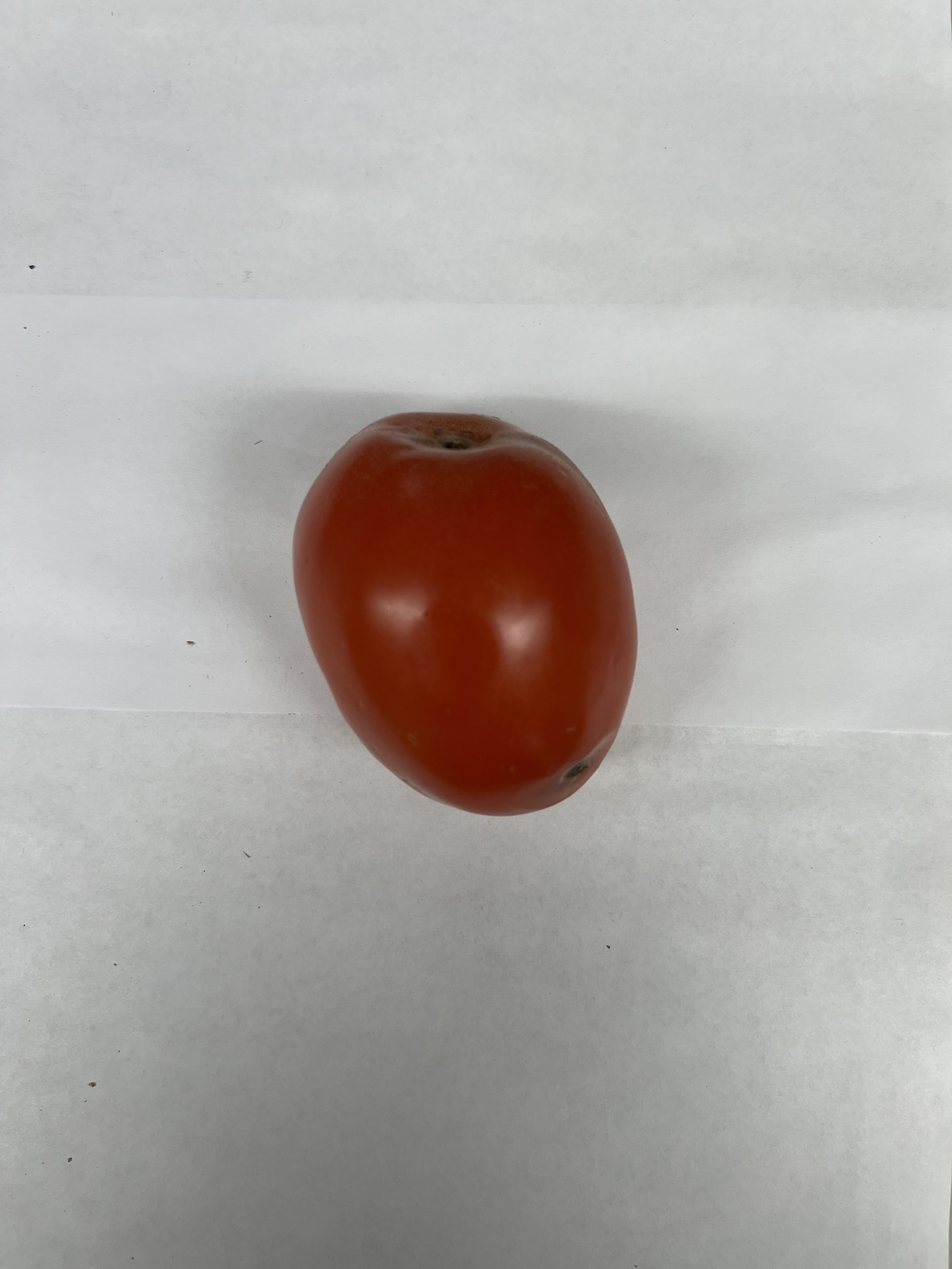produce: (283, 405, 643, 821)
